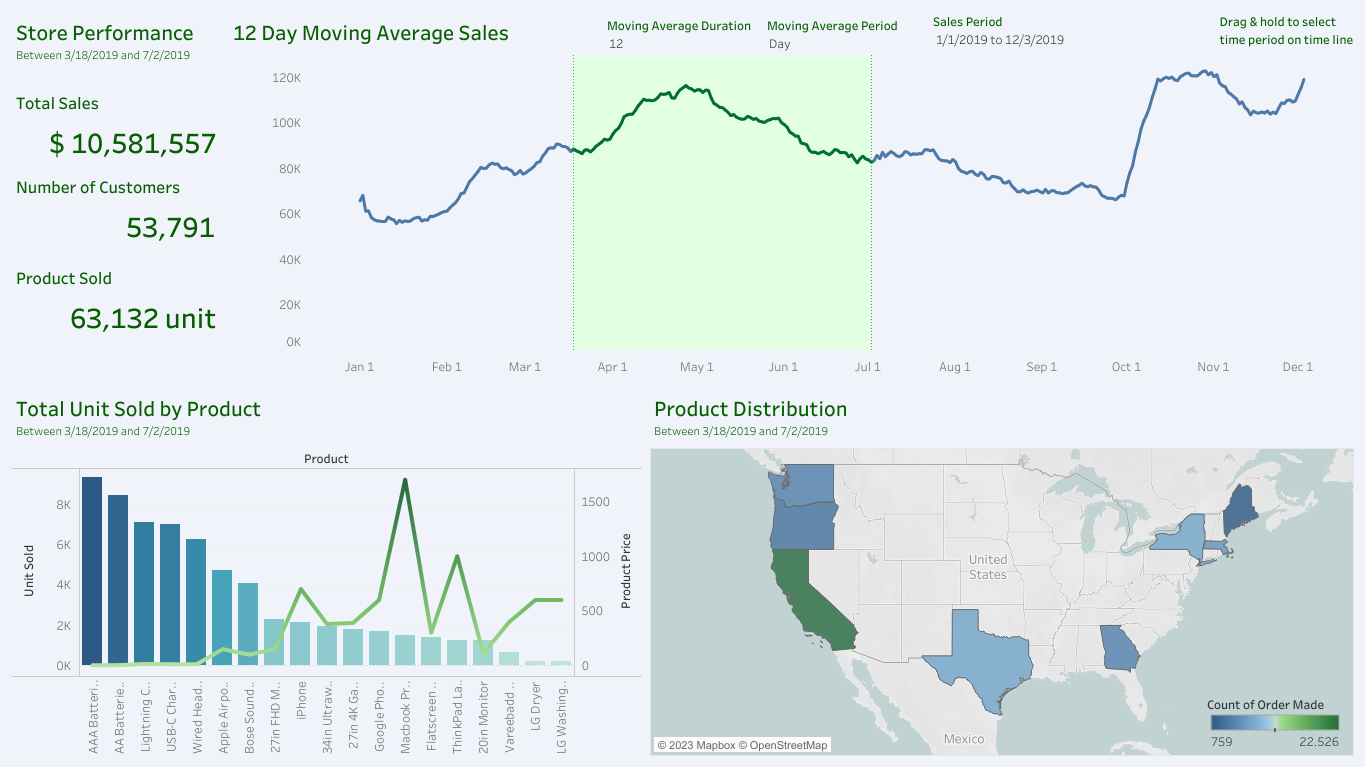

This screenshot's page, from the dashboard's own definition file:
{"tool":"tableau","page":{"name":"Dashboard 1","canvas":[1366,768],"ordinal":0},"visuals":[{"type":"text","box":[1217,0,147,59]},{"type":"worksheet","title":"Total Sales","mark":"Automatic","box":[8,8,217,157]},{"type":"worksheet","title":"Moving Average Sales","mark":"Automatic","rows":["Calculation1"],"cols":["Calculation_91197955854036994"],"box":[225,8,1133,376]},{"type":"filter","title":"Moving Average Sales","param":"[federated.0j8sjml0p5fl651dn50kt09zuyr1].[none:Calculation_91197955854036994:qk]","box":[933,11,168,69]},{"type":"parameter","param":"[Parameters].[Sales Period (copy)]","box":[607,15,160,44]},{"type":"parameter","param":"[Parameters].[Parameter 1]","box":[767,15,160,44]},{"type":"worksheet","title":"Number of Customers","mark":"Automatic","box":[8,165,217,91]},{"type":"worksheet","title":"Product Sold","mark":"Automatic","box":[8,256,217,128]},{"type":"worksheet","title":"Quantity Ordered & Price Each","mark":"Bar","rows":["Quantity Ordered","Price Each"],"cols":["Product"],"box":[8,384,638,376]},{"type":"worksheet","title":"Product Distribution","mark":"Automatic","box":[646,384,712,376]},{"type":"legend","title":"Product Distribution","param":"[federated.0j8sjml0p5fl651dn50kt09zuyr1].[__tableau_internal_object_id__].[cnt:c","box":[1207,691,137,55]}]}

Visuals, with their boxes in screenshot pixels (x1, y1, x2, y2), scaled from the page's 1366x768 canvas onto the 1365x767 screenshot:
text: [x1=1216, y1=0, x2=1363, y2=59]
"Total Sales" worksheet: [x1=8, y1=8, x2=225, y2=165]
"Moving Average Sales" worksheet: [x1=225, y1=8, x2=1357, y2=384]
"Moving Average Sales" filter: [x1=932, y1=11, x2=1100, y2=80]
parameter: [x1=607, y1=15, x2=766, y2=59]
parameter: [x1=766, y1=15, x2=926, y2=59]
"Number of Customers" worksheet: [x1=8, y1=165, x2=225, y2=256]
"Product Sold" worksheet: [x1=8, y1=256, x2=225, y2=384]
"Quantity Ordered & Price Each" worksheet (Bar marks): [x1=8, y1=384, x2=646, y2=759]
"Product Distribution" worksheet: [x1=646, y1=384, x2=1357, y2=759]
"Product Distribution" legend: [x1=1206, y1=690, x2=1343, y2=745]
